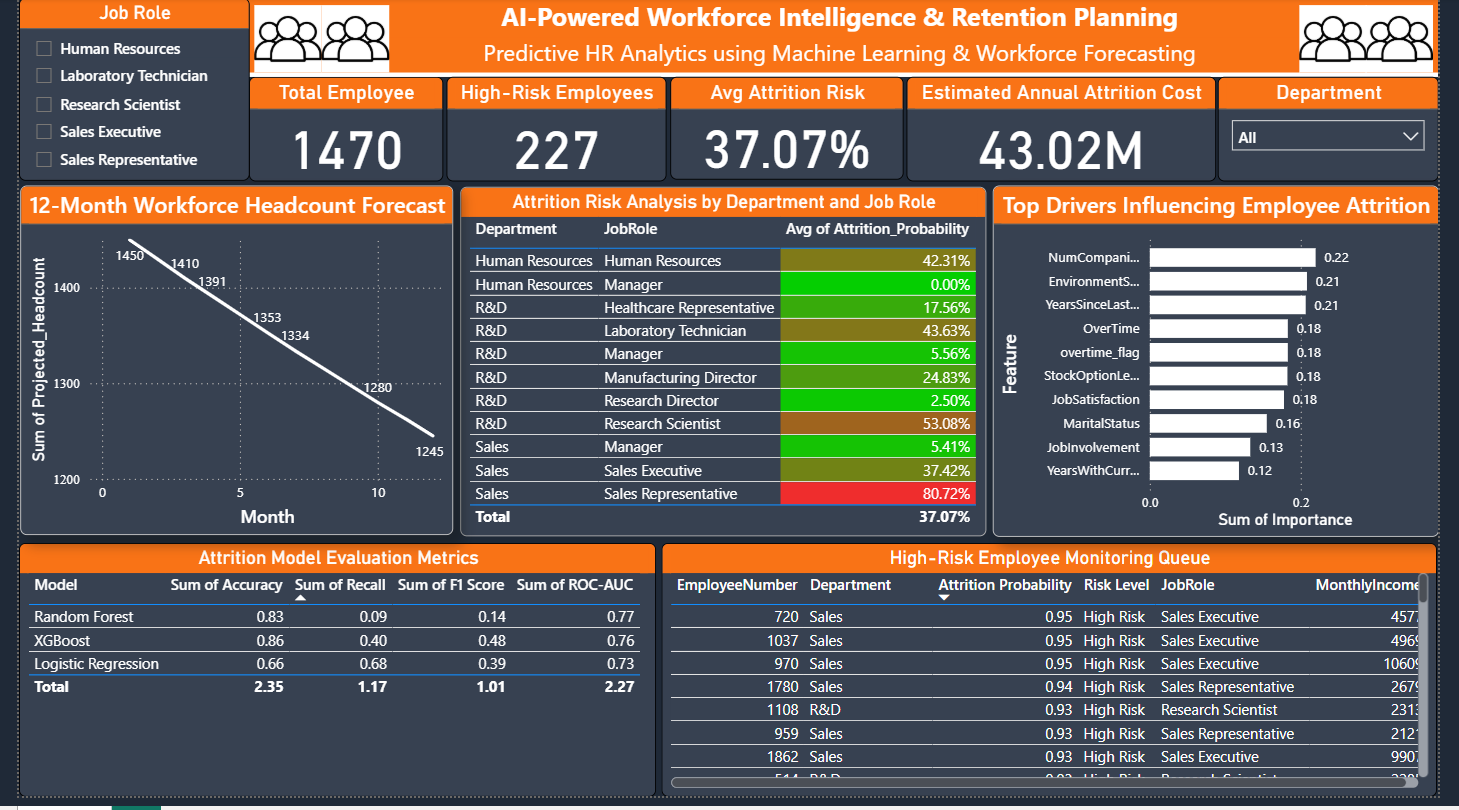

What the dashboard file says about the page in this screenshot:
{"tool":"powerbi","page":{"name":"Page 1","canvas":[1280,720],"ordinal":0},"visuals":[{"type":"tableEx","title":"Attrition Risk Analysis by Department and Job Role","fields":{"Values":["final_employee_risk_data.Department_Name","final_employee_risk_data.JobRole_Name","Avg(final_employee_risk_data.Attrition_Probability)"]},"box":[397.4,170,474.5,315.5],"z":0,"group":"g1"},{"type":"tableEx","title":"High-Risk Employee Monitoring Queue","fields":{"Values":["top_50_at_risk_employees.EmployeeNumber","top_50_at_risk_employees.Department_Name","top_50_at_risk_employees.Attrition_Probability","top_50_at_risk_employees.Risk_Level","top_50_at_risk_employees.JobRole_Name","top_50_at_risk_employees.MonthlyIncome"]},"box":[579.6,491.3,699.5,228.7],"z":0},{"type":"tableEx","title":"Attrition Model Evaluation Metrics","fields":{"Values":["model_comparison.Model","Sum(model_comparison.Accuracy)","Sum(model_comparison.Recall)","Sum(model_comparison.F1 Score)","Sum(model_comparison.ROC-AUC)"]},"box":[0,491.6,574.7,228.7],"z":1000},{"type":"card","title":"Total Employee","fields":{"Values":["CountNonNull(final_employee_risk_data.EmployeeNumber)"]},"box":[207.9,70.9,174.9,94.2],"z":2000},{"type":"lineChart","title":"12-Month Workforce Headcount Forecast","fields":{"Category":["headcount_forecast.Month"],"Y":["Sum(headcount_forecast.Projected_Headcount)"]},"box":[1.2,168.9,390,315.5],"z":2000,"group":"g1"},{"type":"textbox","title":"AI-Powered Workforce Intelligence & Retention Planning","box":[199.3,0,1081,70.9],"z":3000},{"type":"clusteredBarChart","title":"Top Drivers Influencing Employee Attrition","fields":{"Category":["feature_importance.Feature"],"Y":["Sum(feature_importance.Importance)"]},"box":[878,168.8,402.3,316.7],"z":3000,"group":"g1"},{"type":"card","title":"High-Risk Employees","fields":{"Values":["CountNonNull(final_employee_risk_data.Risk_Level)"]},"box":[385.2,70.9,198.1,94.2],"z":4000},{"type":"card","title":"Estimated Annual Attrition Cost","fields":{"Values":["Sum(final_employee_risk_data.TotalAttritionCost)"]},"box":[799.7,70.9,278.8,94.2],"z":5000},{"type":"slicer","title":"Department","fields":{"Values":["top_50_at_risk_employees.Department_Name"]},"box":[1081,70.9,199.3,94.2],"z":6000},{"type":"slicer","title":"Job Role","fields":{"Values":["top_50_at_risk_employees.JobRole_Name"]},"box":[0,0,207.9,165],"z":7000},{"type":"group","id":"g1","title":"Group 1","box":[1.2,168.8,1279.1,316.7],"z":8000},{"type":"image","box":[1209.4,0,70.9,73.4],"z":9000},{"type":"image","box":[1149.5,0,70.9,73.4],"z":10000},{"type":"image","box":[267.8,0,70.9,73.4],"z":11000},{"type":"image","box":[207.9,0,70.9,73.4],"z":12000},{"type":"card","title":"Avg Attrition Risk","fields":{"Values":["Avg(final_employee_risk_data.Attrition_Probability)"]},"box":[587,70.9,210.3,92.9],"z":13000}]}

Visuals, with their boxes in screenshot pixels (x1, y1, x2, y2), scaled from the page's 1280x720 canvas onto the 1459x810 screenshot:
"Attrition Risk Analysis by Department and Job Role" tableEx: select_region(453, 191, 994, 546)
"High-Risk Employee Monitoring Queue" tableEx: select_region(661, 553, 1458, 809)
"Attrition Model Evaluation Metrics" tableEx: select_region(0, 553, 655, 809)
"Total Employee" card: select_region(237, 80, 436, 186)
"12-Month Workforce Headcount Forecast" lineChart: select_region(1, 190, 446, 545)
"AI-Powered Workforce Intelligence & Retention Planning" textbox: select_region(227, 0, 1458, 80)
"Top Drivers Influencing Employee Attrition" clusteredBarChart: select_region(1001, 190, 1458, 546)
"High-Risk Employees" card: select_region(439, 80, 665, 186)
"Estimated Annual Attrition Cost" card: select_region(912, 80, 1229, 186)
"Department" slicer: select_region(1232, 80, 1458, 186)
"Job Role" slicer: select_region(0, 0, 237, 186)
"Group 1" group: select_region(1, 190, 1458, 546)
image: select_region(1379, 0, 1458, 83)
image: select_region(1310, 0, 1391, 83)
image: select_region(305, 0, 386, 83)
image: select_region(237, 0, 318, 83)
"Avg Attrition Risk" card: select_region(669, 80, 909, 184)
